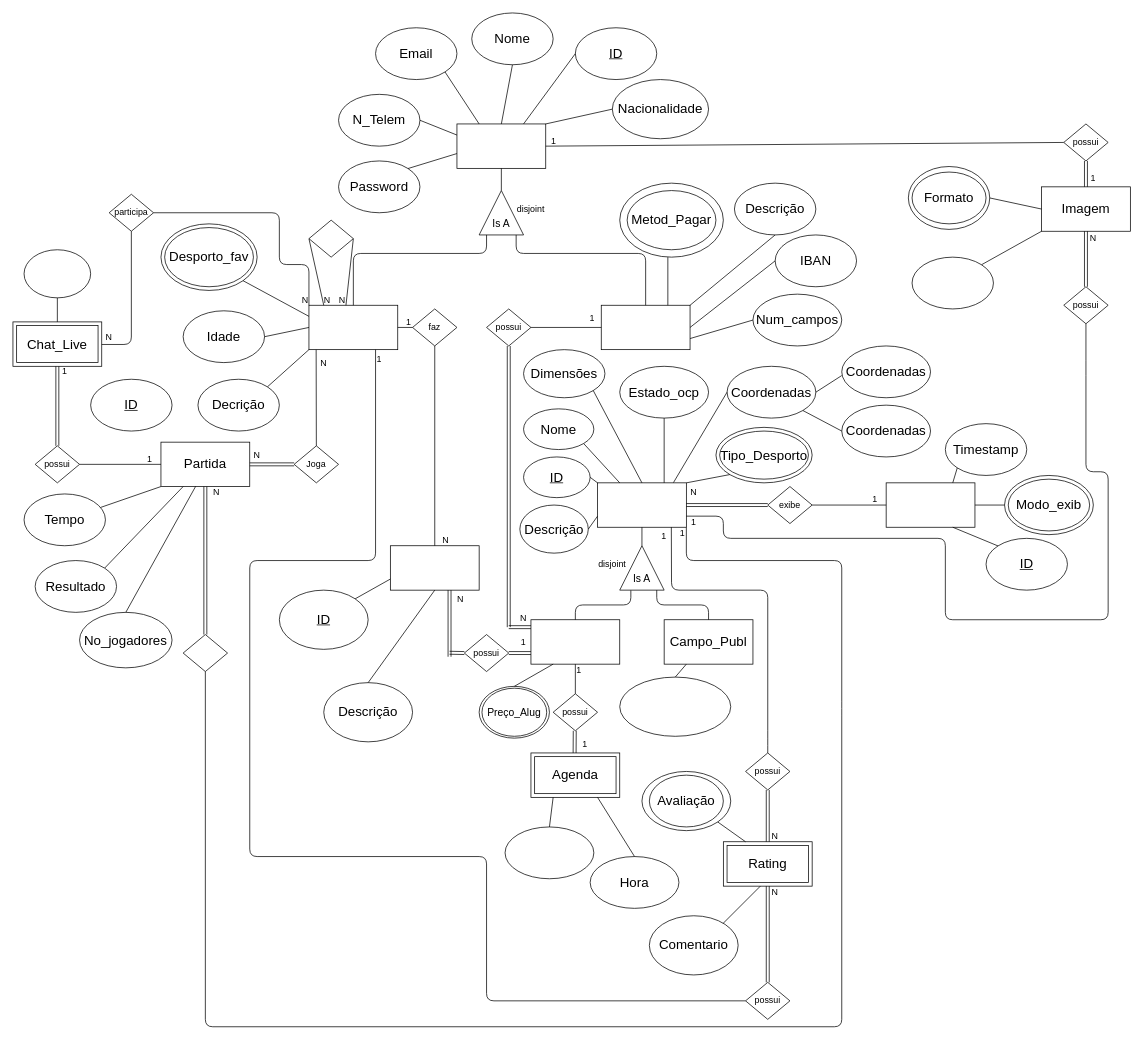
Some shapes in this 1143 by 1040 pixel diagram are drawn without their labels. Each missing label, with the centre of its shape:
"amizade" belongs at point (330, 238).
"Arrendador" belongs at point (645, 327).
"Campo" belongs at point (641, 504).
"Campo_Priv" belongs at point (575, 641).
"Data" belongs at point (549, 852).
"Jogador" belongs at point (353, 327).
"Mapa" belongs at point (930, 504).
"Nome_Ent_Resp" belongs at point (675, 706).
"Reserva" belongs at point (434, 567).
"Titulo" belongs at point (57, 273).
"URL" belongs at point (952, 282).
"utiliza" belongs at point (205, 653).
"Utilizador" belongs at point (501, 145).
